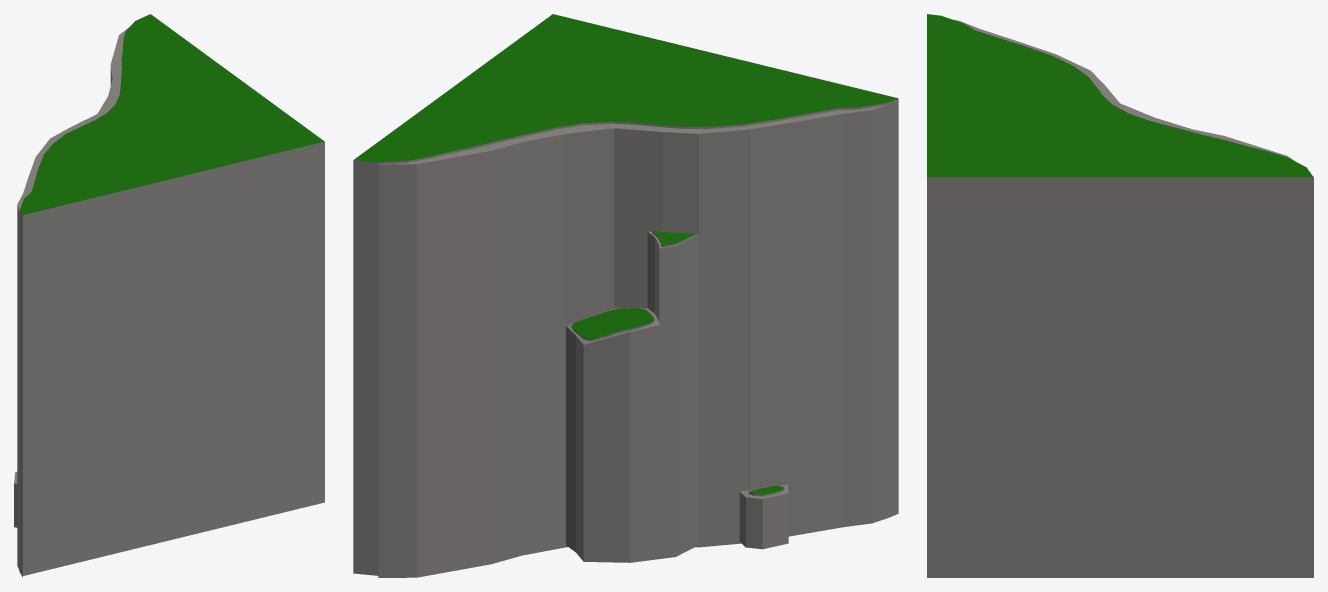
Rendered from Corner2.fbx.
3 views of the same model, side by side, from view 1: azimuth 30°, elevation 25°; view 2: azimuth 150°, elevation 25°; view 3: azimuth 270°, elevation 25° (orthographic). The views are drawn at different scales.
Parts seen in each view (by area): view 1: Plane.029; view 2: Plane.029; view 3: Plane.029.
Boxes of the visible parts, x1,y1,x2,y2 form: Plane.029: (14, 14, 324, 577); Plane.029: (353, 14, 898, 577); Plane.029: (927, 14, 1313, 577).
Bounding box in the file's own units: 87.5 × 101 × 87.5.
